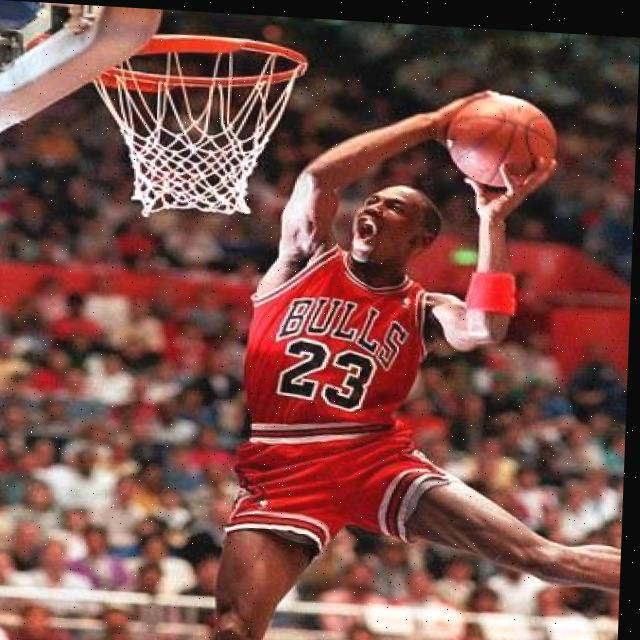basketball: (445, 93, 560, 191)
hoop: (97, 27, 312, 222)
